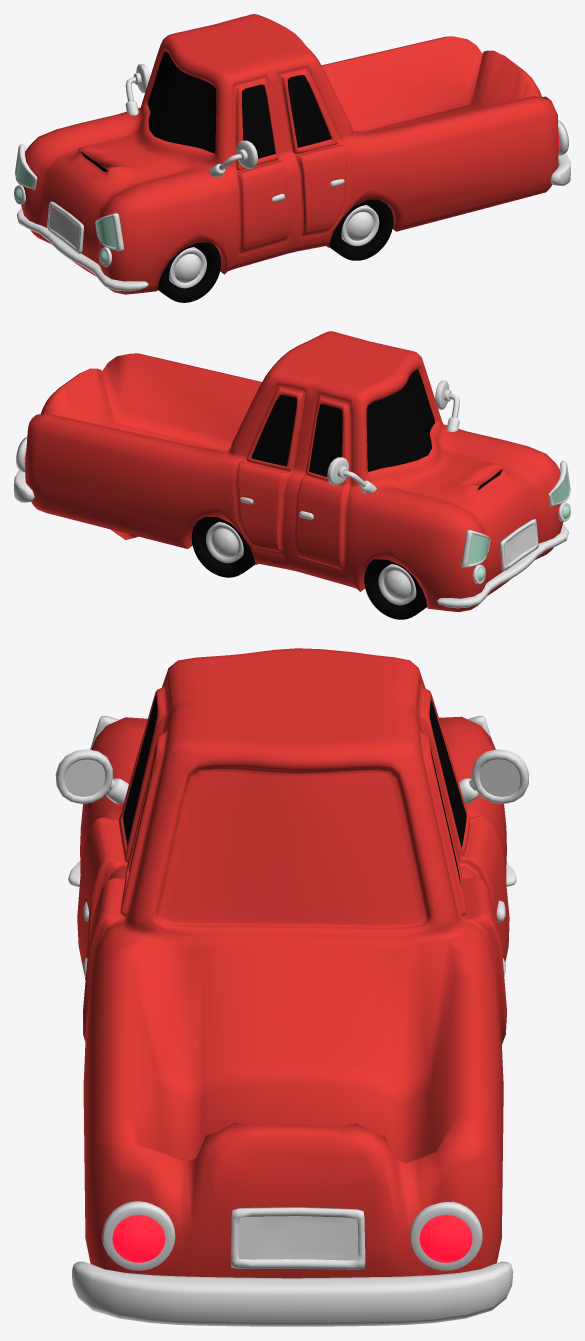
File: cochesbienrojo.fbx
The picture shows the model from 3 angles, top to bottom: view 1: azimuth 30°, elevation 25°; view 2: azimuth 150°, elevation 25°; view 3: azimuth 270°, elevation 25°; orthographic projection. The views are drawn at different scales.
Parts seen in each view (by area): view 1: Cube.003, Cube.022, Cube.020, Circle.028, Circle.027, Cube.026, Cube.031, Cube.027, Cube.028, Cube.030, Cube.029, Cube.010; view 2: Cube.003, Cube.022, Cube.020, Circle.030, Circle.032, Cube.026, Cube.031, Cube.027, Cube.028, Cube.030, Cube.029, Cube.010; view 3: Cube.003, Cube.010, Cube.025, Circle.010, Circle.011, Cube.024, Cube.020, Cube.031, Circle.014.
Part boxes in pixels (bbox=[...]): Cube.003: bbox=[21, 14, 558, 294]; Cube.022: bbox=[147, 51, 216, 153]; Cube.020: bbox=[242, 75, 331, 158]; Circle.028: bbox=[329, 199, 393, 260]; Circle.027: bbox=[157, 242, 220, 302]; Cube.026: bbox=[17, 208, 148, 291]; Cube.031: bbox=[133, 64, 257, 168]; Cube.027: bbox=[15, 144, 124, 251]; Cube.028: bbox=[16, 155, 116, 247]; Cube.030: bbox=[49, 206, 79, 248]; Cube.029: bbox=[47, 201, 83, 253]; Cube.010: bbox=[550, 153, 570, 185]; Cube.003: bbox=[25, 331, 563, 611]; Cube.022: bbox=[366, 369, 434, 471]; Cube.020: bbox=[251, 394, 342, 477]; Circle.030: bbox=[191, 517, 255, 577]; Circle.032: bbox=[364, 559, 426, 619]; Cube.026: bbox=[436, 524, 568, 608]; Cube.031: bbox=[327, 380, 451, 485]; Cube.027: bbox=[461, 461, 570, 567]; Cube.028: bbox=[468, 472, 568, 564]; Cube.030: bbox=[504, 524, 536, 565]; Cube.029: bbox=[500, 519, 538, 570]; Cube.010: bbox=[14, 470, 34, 502]; Cube.003: bbox=[77, 648, 509, 1278]; Cube.010: bbox=[71, 1261, 513, 1326]; Cube.025: bbox=[238, 1216, 358, 1260]; Circle.010: bbox=[102, 1201, 482, 1270]; Circle.011: bbox=[112, 1215, 472, 1262]; Cube.024: bbox=[230, 1207, 365, 1269]; Cube.020: bbox=[123, 695, 466, 886]; Cube.031: bbox=[55, 749, 529, 803]; Circle.014: bbox=[64, 759, 520, 803].
Size of the model in its own units: 654 by 263 by 281.
